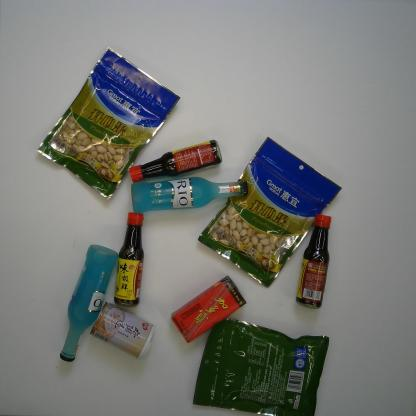Alcohol: (58, 243, 119, 363), (130, 176, 249, 215)
Canned Food: (89, 300, 157, 360)
Dried Fruit: (36, 46, 182, 202), (197, 135, 344, 288), (192, 316, 330, 416)
Drink: (170, 274, 247, 344)
Seasoner: (128, 138, 223, 183), (294, 212, 333, 310), (113, 211, 145, 308)
